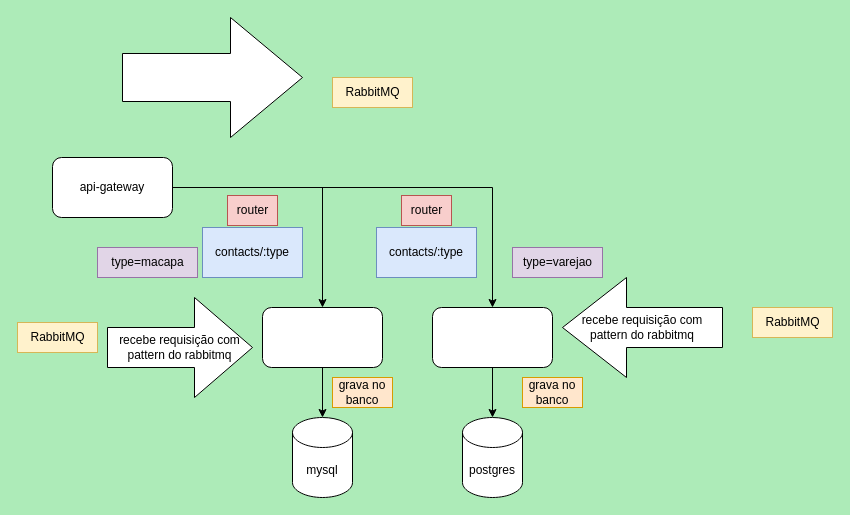
Some shapes in this 850 by 515 pixel diagram are drawn without their labels. The centre of each missing label's shape, as x and y in pixels:
"api-macapa" belongs at pixel 322 337.
"api-varejao" belongs at pixel 492 337.
"envia body da request para rabbitmq" belongs at pixel 212 77.
